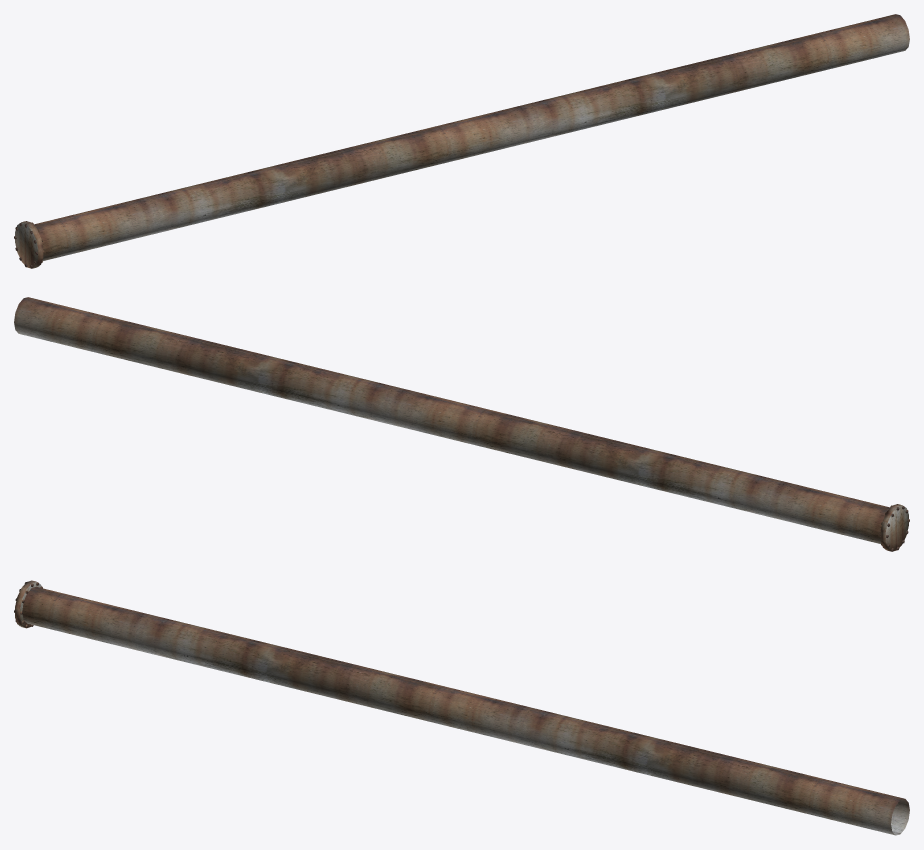
The model's file is pipe_3.obj.
3 views of the same model, one above another, from view 1: azimuth 30°, elevation 25°; view 2: azimuth 150°, elevation 25°; view 3: azimuth 330°, elevation 25° (orthographic).
Parts seen in each view (by area): view 1: pipe_3.obj; view 2: pipe_3.obj; view 3: pipe_3.obj.
Part boxes in pixels (x1,y1,x2,y2): pipe_3.obj: [14, 14, 909, 268]; pipe_3.obj: [14, 297, 909, 551]; pipe_3.obj: [14, 580, 909, 835].
Bounding box in the file's own units: 26.37 × 1.25 × 1.22.
1 material, 1 textured.
